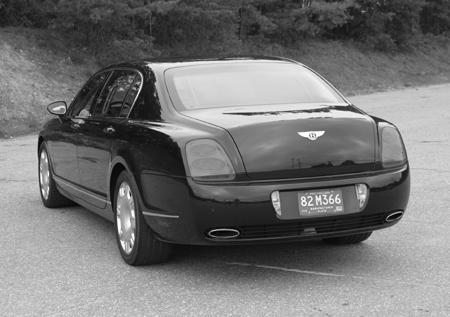car: (35, 55, 415, 270)
